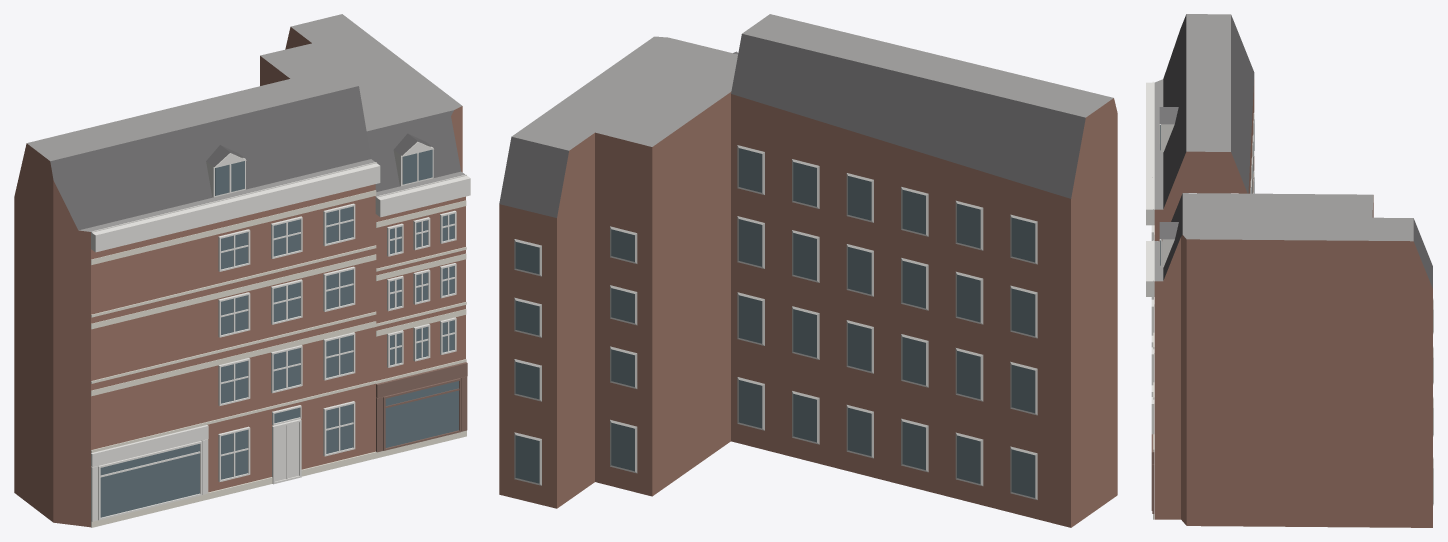
File: chunk-face-bilder-161281-157756.glb
3 views of the same model, side by side, from view 1: azimuth 30°, elevation 25°; view 2: azimuth 150°, elevation 25°; view 3: azimuth 270°, elevation 25° (orthographic). The views are drawn at different scales.
Parts seen in each view (by area): view 1: face-bilder-161281-157756; view 2: face-bilder-161281-157756; view 3: face-bilder-161281-157756.
Boxes of the visible parts, x1,y1,x2,y2 form: face-bilder-161281-157756: [14, 14, 470, 527]; face-bilder-161281-157756: [499, 14, 1117, 527]; face-bilder-161281-157756: [1146, 14, 1433, 527].
Size of the model in its own units: 20.5 by 16.87 by 13.42.
